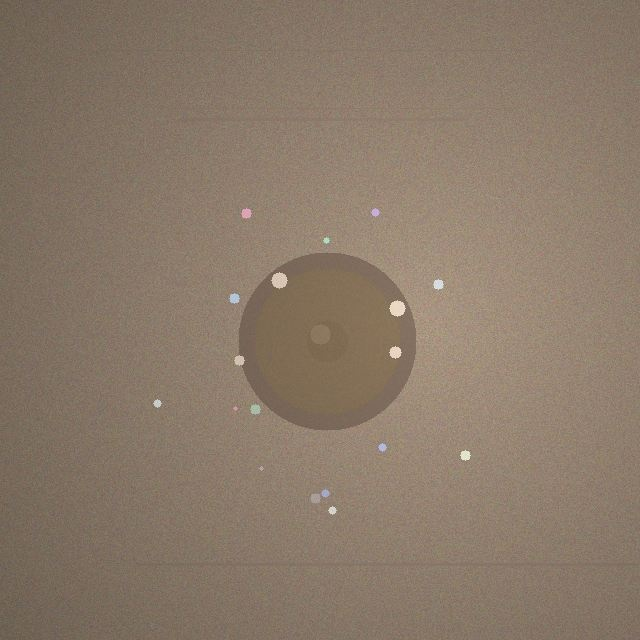overburn: (238, 252, 416, 430)
